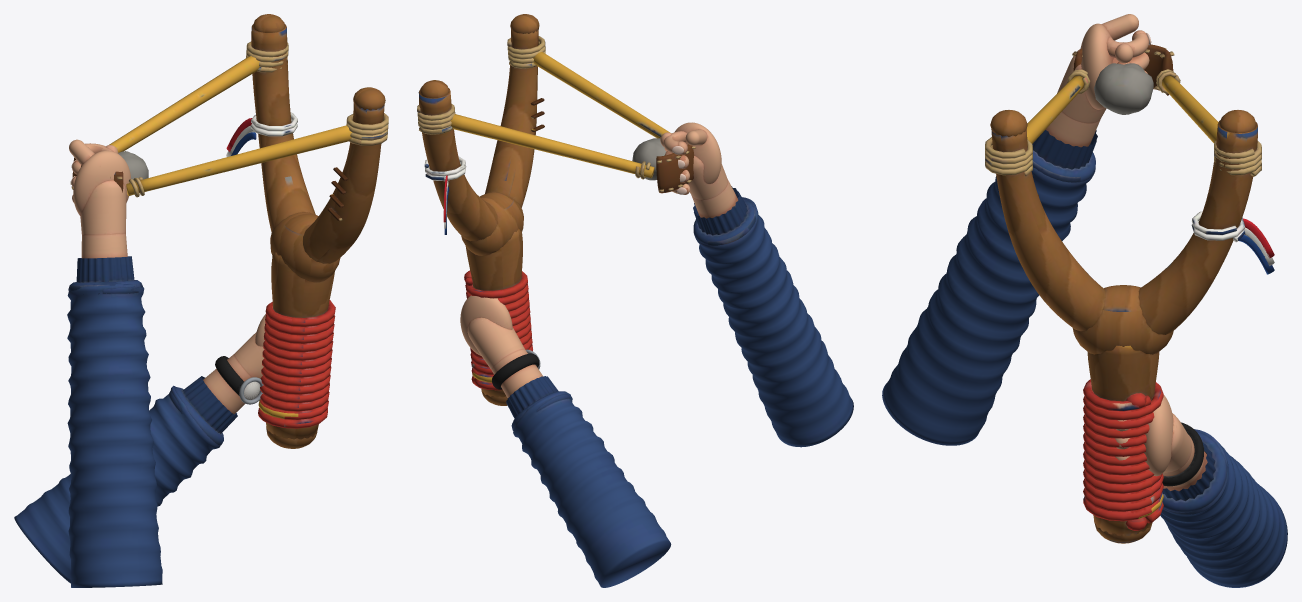
The model's file is katapult.glb.
The picture shows the model from 3 angles, left to right: view 1: azimuth 30°, elevation 25°; view 2: azimuth 150°, elevation 25°; view 3: azimuth 270°, elevation 25°; orthographic projection. The views are drawn at different scales.
Parts seen in each view (by area): view 1: Katapult_DrawArm, Katapult_Frame, Katapult_Arms, Katapult_Bands, Katapult_Stone; view 2: Katapult_DrawArm, Katapult_Arms, Katapult_Frame, Katapult_Bands, Katapult_Pouch, Katapult_Stone; view 3: Katapult_Frame, Katapult_DrawArm, Katapult_Arms, Katapult_Bands, Katapult_Stone, Katapult_Pouch.
Part boxes in pixels (x1,y1,x2,y2): Katapult_DrawArm: [67, 139, 162, 587]; Katapult_Frame: [226, 14, 388, 448]; Katapult_Arms: [14, 314, 265, 583]; Katapult_Bands: [109, 56, 351, 197]; Katapult_Stone: [118, 151, 148, 195]; Katapult_DrawArm: [660, 122, 853, 447]; Katapult_Arms: [460, 295, 671, 587]; Katapult_Frame: [417, 14, 545, 405]; Katapult_Bands: [450, 52, 671, 179]; Katapult_Pouch: [656, 144, 696, 193]; Katapult_Stone: [632, 138, 666, 180]; Katapult_Frame: [985, 110, 1274, 543]; Katapult_DrawArm: [882, 14, 1151, 445]; Katapult_Arms: [1115, 395, 1287, 587]; Katapult_Bands: [1027, 69, 1218, 143]; Katapult_Stone: [1094, 63, 1153, 114]; Katapult_Pouch: [1072, 42, 1174, 95].
Bounding box in the file's own units: 0.5695 × 0.8133 × 0.5103.
1 material, 1 textured.
